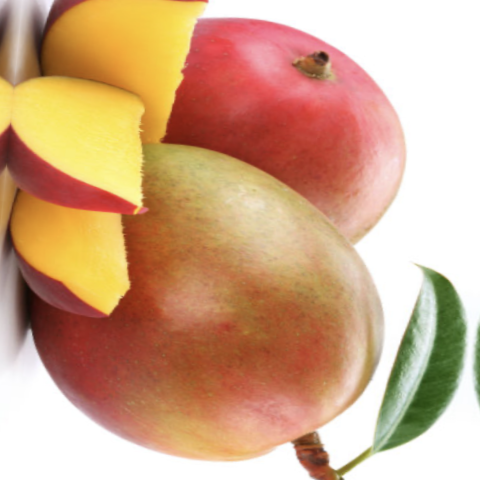mango: (10, 113, 405, 480)
